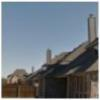chimneys: (87, 13, 97, 44), (45, 48, 54, 64)
